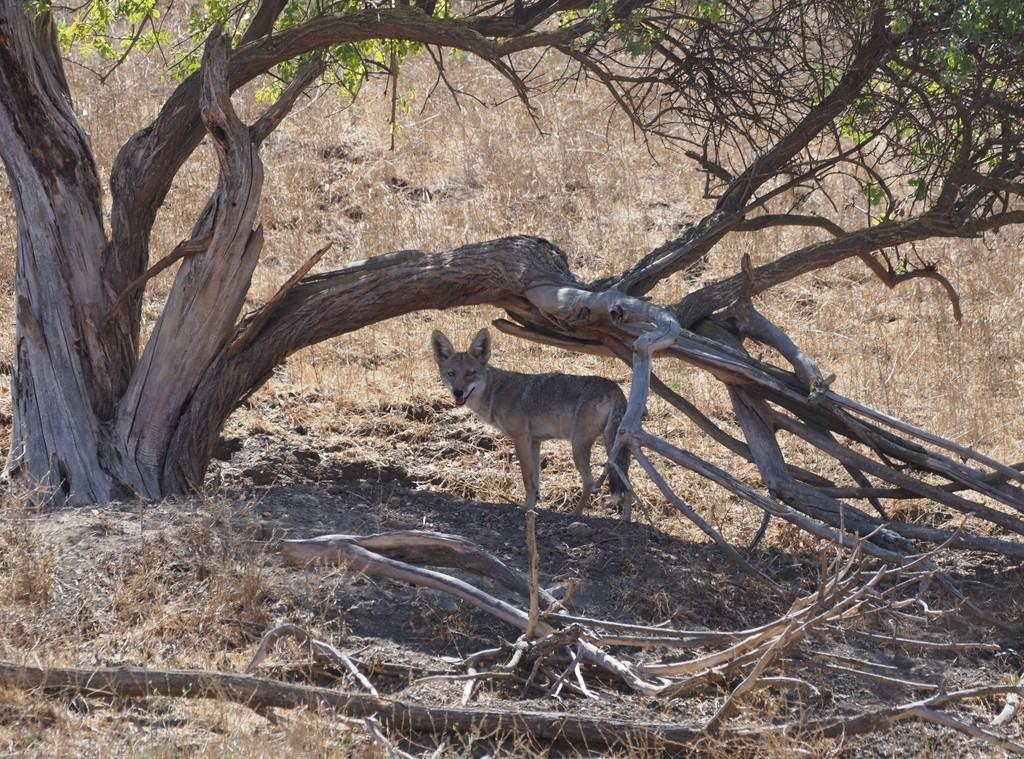Coyote: (427, 320, 637, 526)
